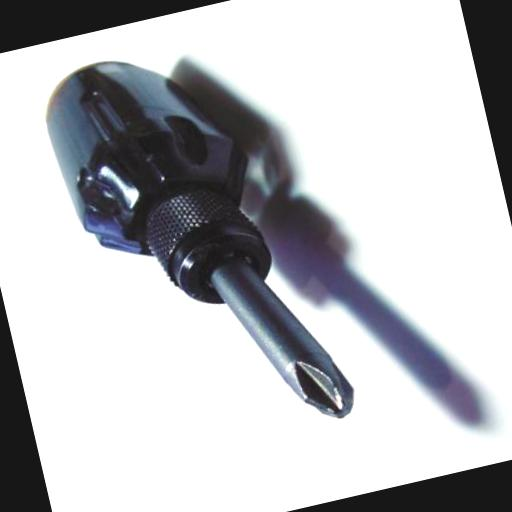screwdriver: (33, 22, 361, 468)
